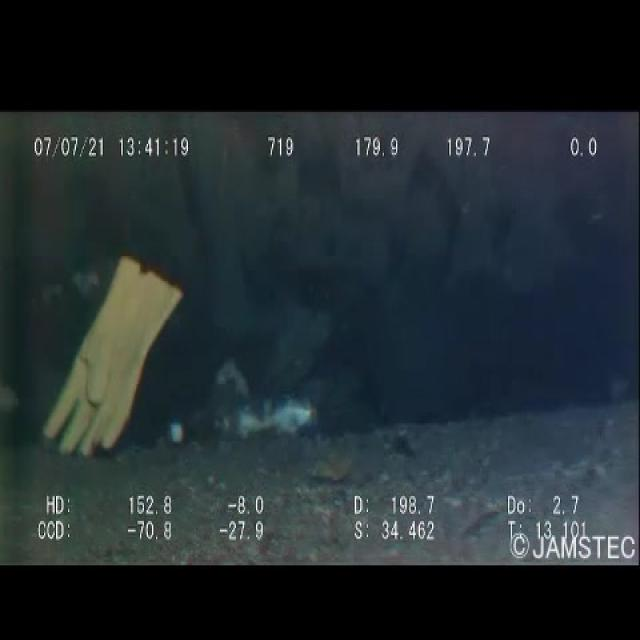plastic: (158, 377, 218, 451)
